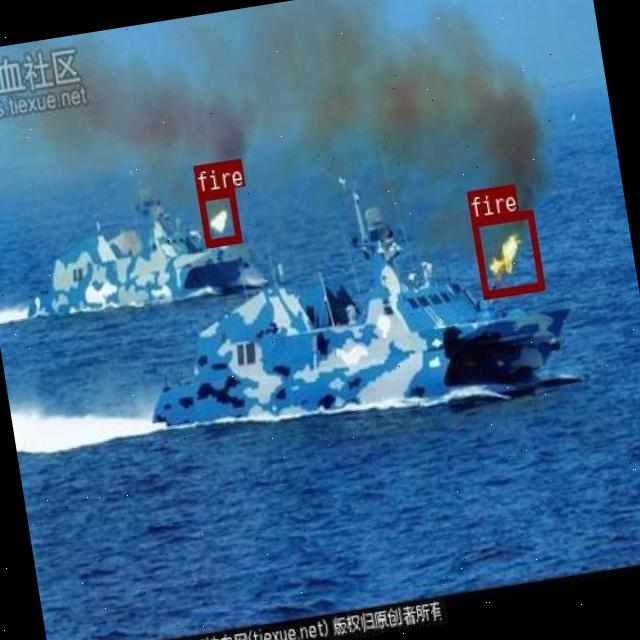fire: (471, 209, 543, 297), (197, 187, 240, 246)
